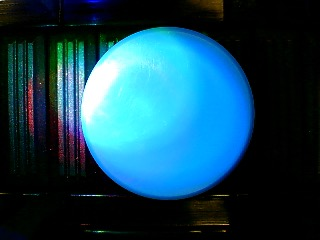BLANK: (80, 26, 255, 200)
